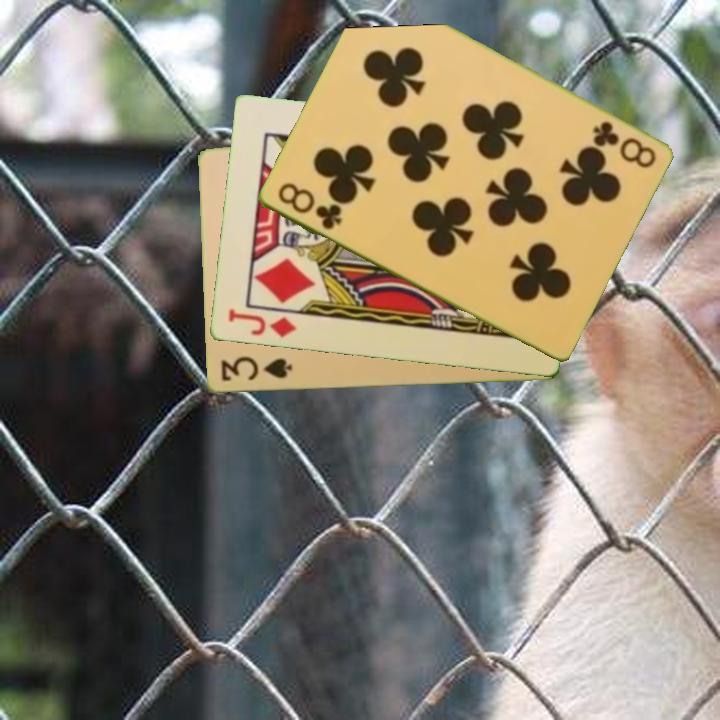3s: (217, 354, 295, 385)
8c: (273, 179, 344, 234), (588, 117, 659, 171)
Jd: (224, 306, 299, 341)
